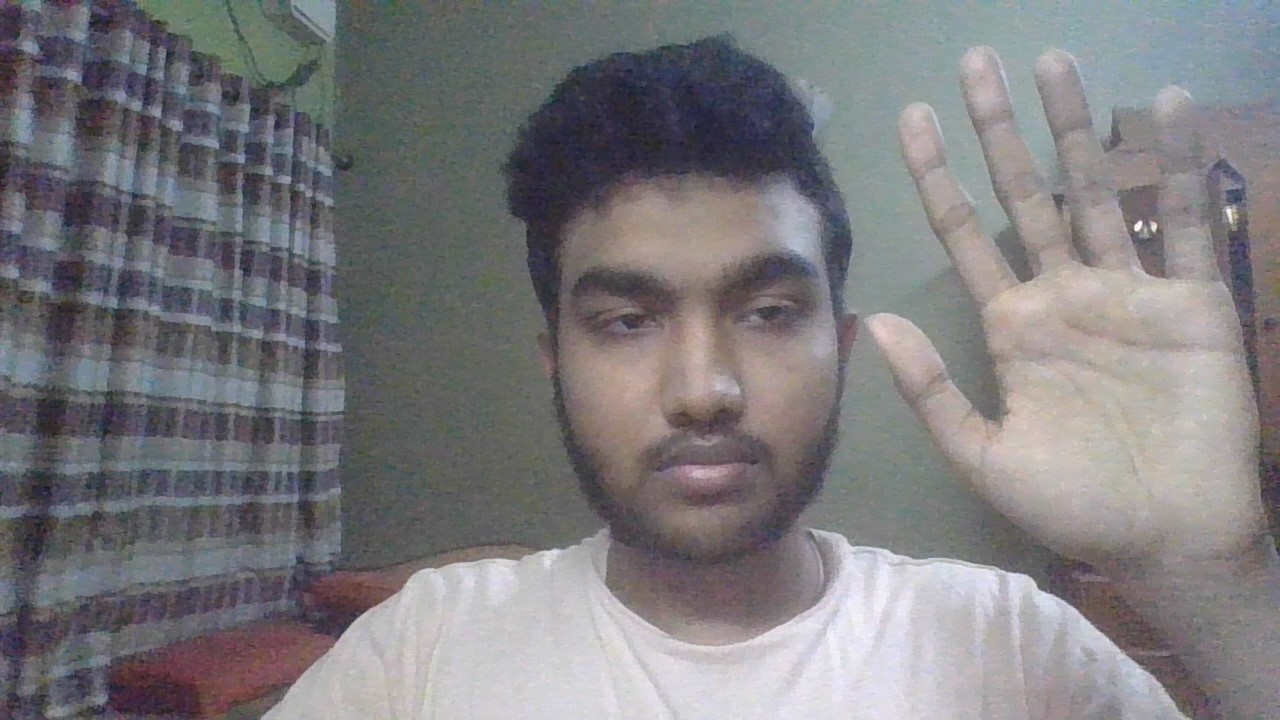Hello: (857, 30, 1280, 554)
